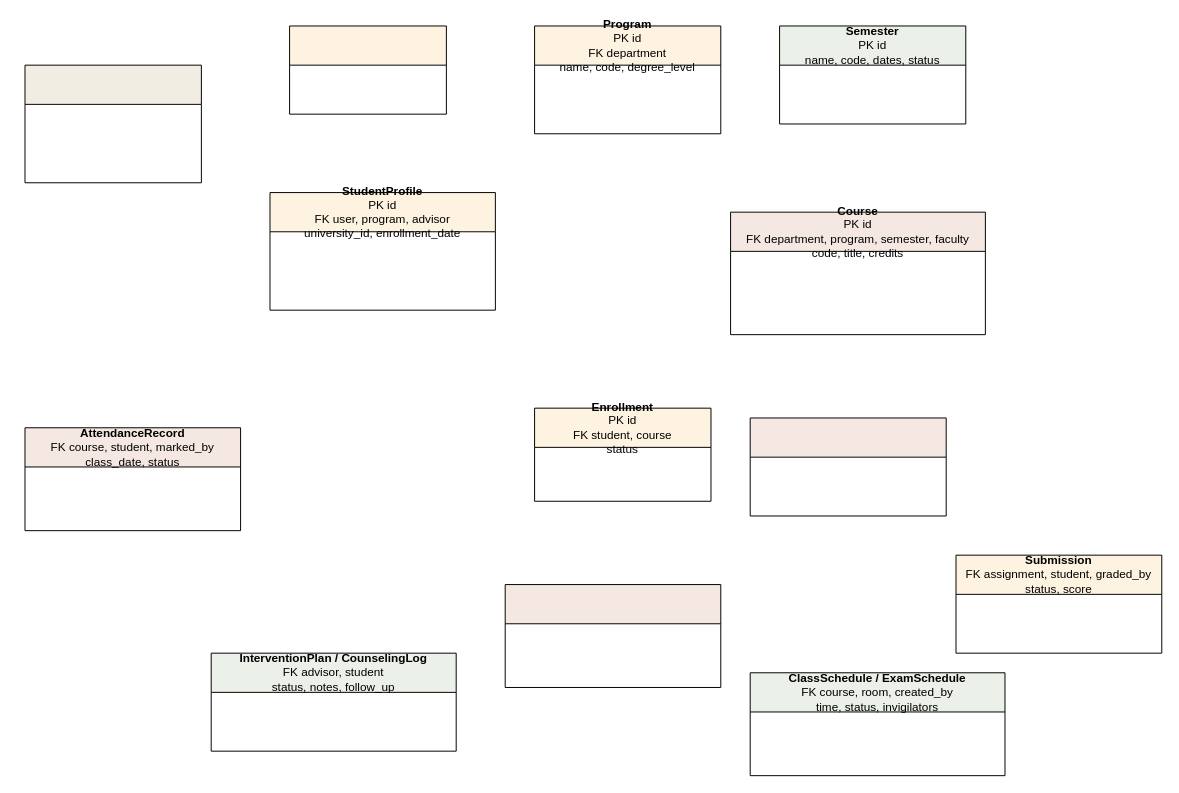
This 1179x793 diagram has some shape labels left out. The centre of each missing label's shape, as x and y in pixels:
"Assignment FK course, created_by title, due_at, points" goes at point 847,466.
"CustomUser PK id username, email, role FK department" goes at point 112,123.
"Department PK id name, code" goes at point 367,69.
"Grade FK student, course, graded_by letter, points, percentage" goes at point 612,635.
